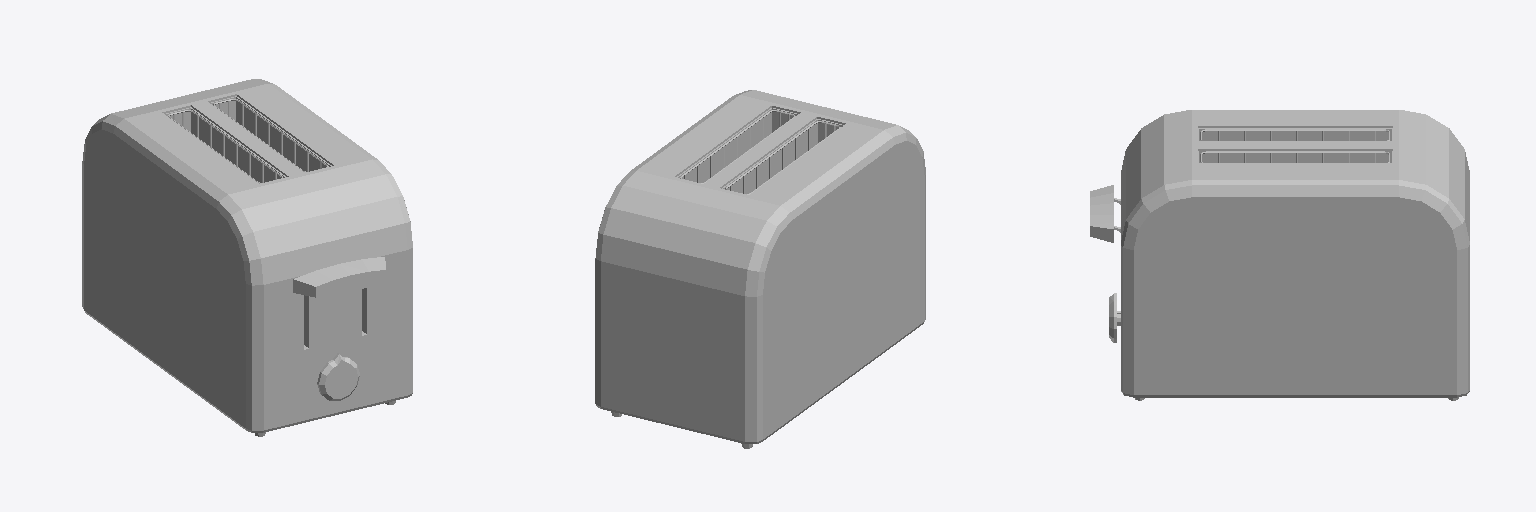
Rendered from Toaster_001.obj.
3 renders of one model, left to right at view 1: azimuth 30°, elevation 25°; view 2: azimuth 150°, elevation 25°; view 3: azimuth 270°, elevation 25°, orthographic.
Visible parts, largest first — view 1: Toaster_001_toaster; view 2: Toaster_001_toaster; view 3: Toaster_001_toaster.
Boxes of the visible parts, box(x1,y1,x2,y2) form: Toaster_001_toaster: box(82, 79, 412, 436); Toaster_001_toaster: box(595, 90, 925, 448); Toaster_001_toaster: box(1090, 110, 1469, 400).
Size of the model in its own units: 1.8 by 2.29 by 3.55.